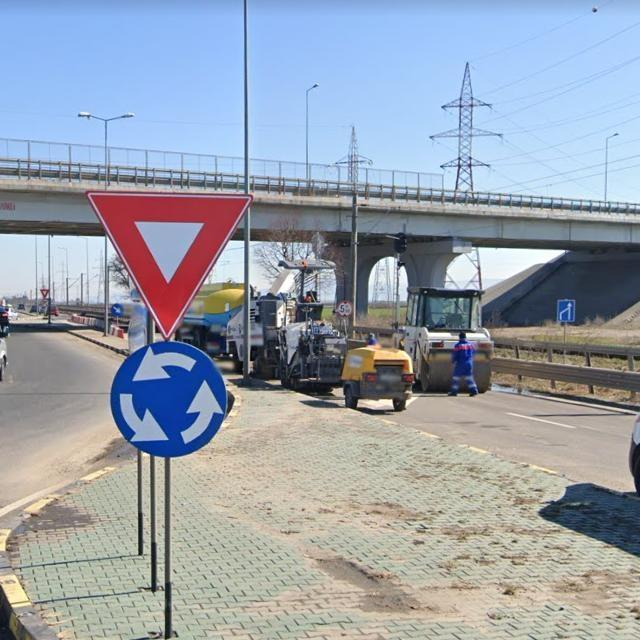prio_give_way: (83, 190, 250, 339)
